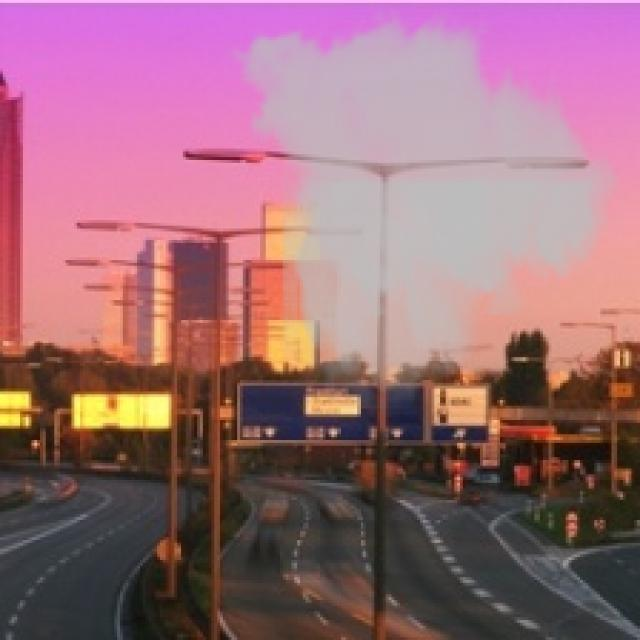smoke: (220, 3, 631, 408)
